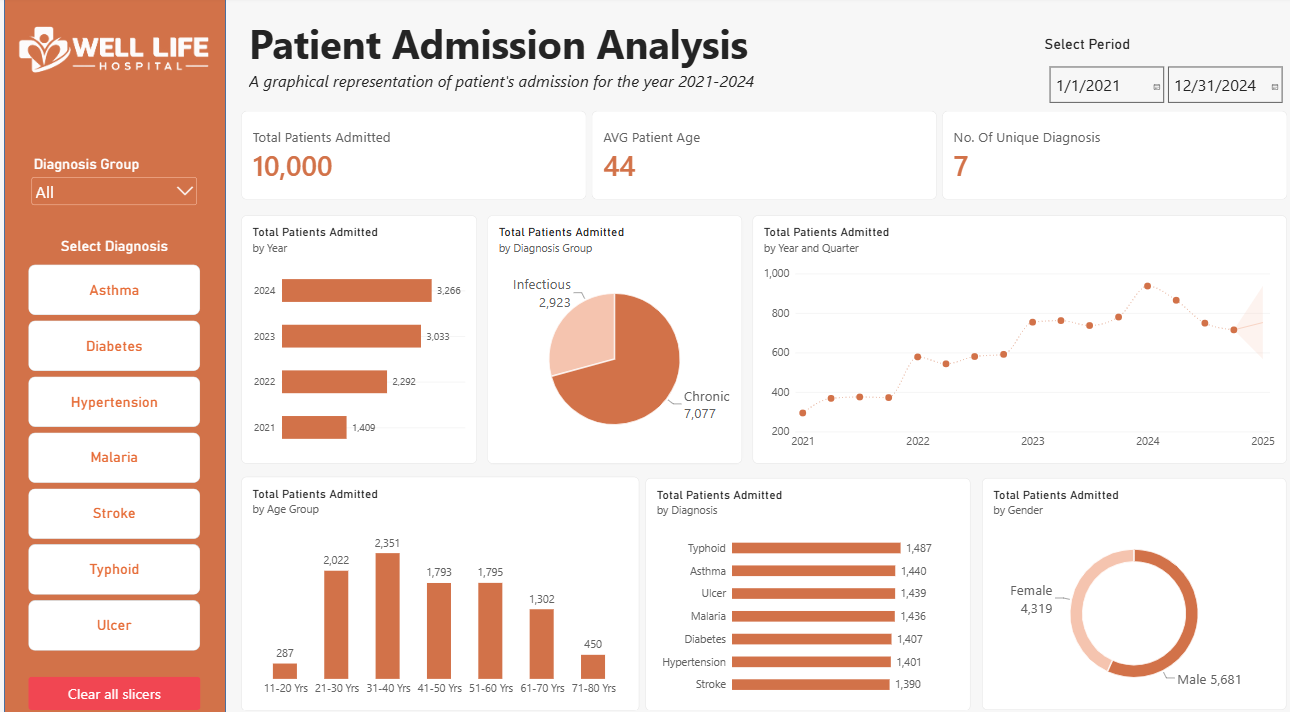

This screenshot's page, from the dashboard's own definition file:
{"tool":"powerbi","page":{"name":"Data Visualization","canvas":[1920,1080],"ordinal":1},"visuals":[{"type":"cardVisual","fields":{"Data":["Dax.Total Patients Admitted","Dax.AVG Patient Age","Dax.No. Of Unique Diagnosis"]},"box":[359.4,170.3,1553.2,132.4],"z":0},{"type":"clusteredBarChart","fields":{"Category":["Admissions Data.Admission_Date.Variation.Date Hierarchy.Year"],"Y":["Dax.Total Patients Admitted"]},"box":[359.4,325.4,350,368.9],"z":1000},{"type":"columnChart","fields":{"Category":["Admissions Data.Age Group"],"Y":["Dax.Total Patients Admitted"]},"box":[359.4,713.2,590.3,348.1],"z":2000},{"type":"donutChart","fields":{"Category":["Admissions Data.Gender"],"Y":["Dax.Total Patients Admitted"]},"box":[1458.6,715.1,452.1,344.3],"z":3000},{"type":"clusteredBarChart","fields":{"Category":["Admissions Data.Diagnosis"],"Y":["Dax.Total Patients Admitted"]},"box":[959.2,715.1,482.4,346.2],"z":4000},{"type":"pieChart","fields":{"Category":["Admissions Data.Diagnosis Group"],"Y":["Dax.Total Patients Admitted"]},"box":[724.6,325.4,378.4,368.9],"z":5000},{"type":"lineChart","fields":{"Category":["Admissions Data.Admission_Date.Variation.Date Hierarchy.Year","Admissions Data.Admission_Date.Variation.Date Hierarchy.Quarter","Admissions Data.Admission_Date.Variation.Date Hierarchy.Month","Admissions Data.Admission_Date.Variation.Date Hierarchy.Day"],"Y":["Dax.Total Patients Admitted"]},"box":[1118.1,325.4,792.7,368.9],"z":6000},{"type":"shape","box":[7.6,0,329.2,1080.2],"z":7000},{"type":"advancedSlicerVisual","title":"Select Diagnosis","fields":{"Values":["Admissions Data.Diagnosis"]},"box":[43.5,357.6,255.4,614.8],"z":8000},{"type":"slicer","title":"Select Period","fields":{"Values":["Admissions Data.Admission_Date"]},"box":[1551.3,58.6,361.3,111.6],"z":9000},{"type":"slicer","fields":{"Values":["Admissions Data.Diagnosis Group"]},"box":[43.5,236.5,255.4,81.3],"z":10000},{"type":"textbox","box":[370.8,30.3,766.2,126.8],"z":11000},{"type":"actionButton","box":[43.5,1010.2,255.4,49.2],"z":12000},{"type":"image","box":[7.6,15.1,325.4,126.8],"z":13000}]}

Visuals, with their boxes in screenshot pixels (x1, y1, x2, y2), scaled from the page's 1920x1080 canvas onto the 1290x712 screenshot:
cardVisual - Dax.Total Patients Admitted x Dax.AVG Patient Age: (x1=241, y1=112, x2=1285, y2=200)
clusteredBarChart - Admissions Data.Admission_Date.Variation.Date Hierarchy.Year x Dax.Total Patients Admitted: (x1=241, y1=215, x2=477, y2=458)
columnChart - Admissions Data.Age Group x Dax.Total Patients Admitted: (x1=241, y1=470, x2=638, y2=700)
donutChart - Admissions Data.Gender x Dax.Total Patients Admitted: (x1=980, y1=471, x2=1284, y2=698)
clusteredBarChart - Admissions Data.Diagnosis x Dax.Total Patients Admitted: (x1=644, y1=471, x2=969, y2=700)
pieChart - Admissions Data.Diagnosis Group x Dax.Total Patients Admitted: (x1=487, y1=215, x2=741, y2=458)
lineChart - Admissions Data.Admission_Date.Variation.Date Hierarchy.Year x Admissions Data.Admission_Date.Variation.Date Hierarchy.Quarter: (x1=751, y1=215, x2=1284, y2=458)
shape: (x1=5, y1=0, x2=226, y2=711)
"Select Diagnosis" advancedSlicerVisual: (x1=29, y1=236, x2=201, y2=641)
"Select Period" slicer: (x1=1042, y1=39, x2=1285, y2=112)
slicer - Admissions Data.Diagnosis Group: (x1=29, y1=156, x2=201, y2=210)
textbox: (x1=249, y1=20, x2=764, y2=104)
actionButton: (x1=29, y1=666, x2=201, y2=698)
image: (x1=5, y1=10, x2=224, y2=94)
